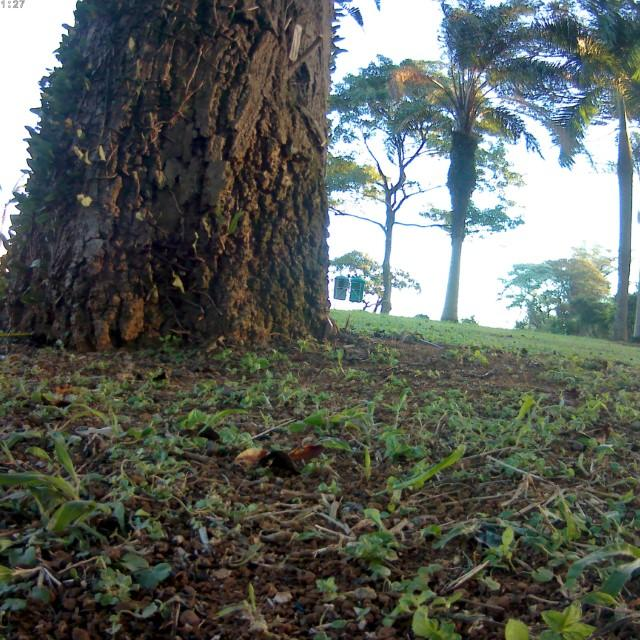arvore: (0, 0, 347, 359)
